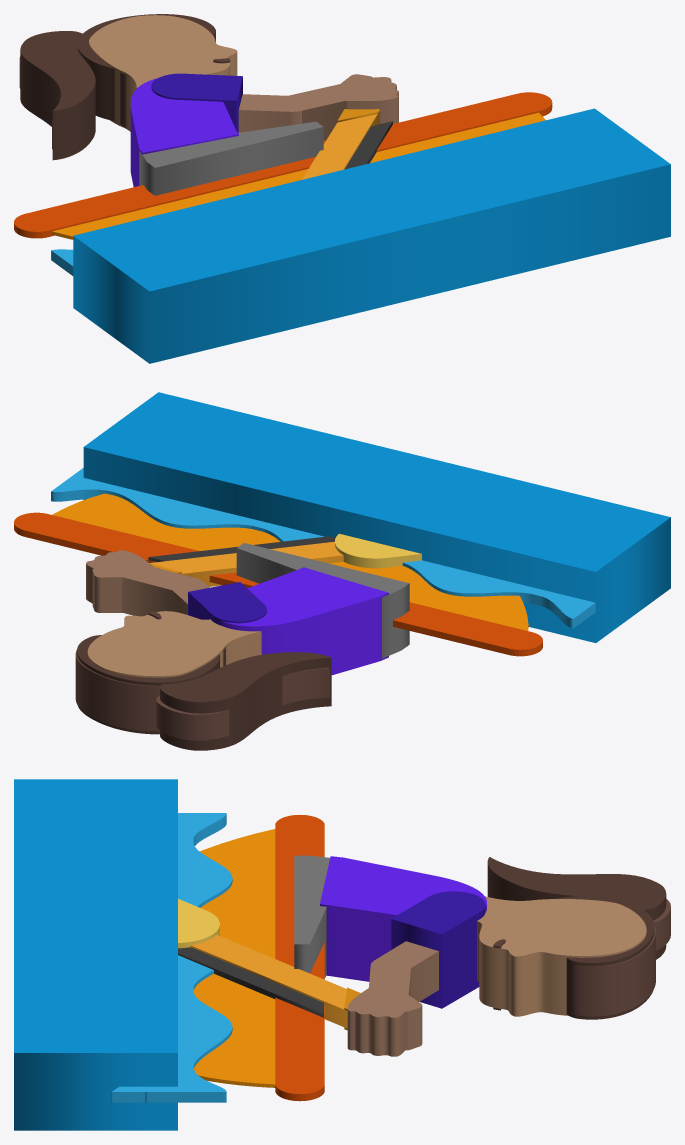
The model's file is emoji_u1f6a3_1f3fd_200d_2640.glb.
3 views of the same model, one above another, from view 1: azimuth 30°, elevation 25°; view 2: azimuth 150°, elevation 25°; view 3: azimuth 270°, elevation 25° (orthographic). The views are drawn at different scales.
Parts seen in each view (by area): view 1: emoji_u1f6a3_1f3fd_200d_2640; view 2: emoji_u1f6a3_1f3fd_200d_2640; view 3: emoji_u1f6a3_1f3fd_200d_2640.
Boxes of the visible parts, <box> form: emoji_u1f6a3_1f3fd_200d_2640: <box>14,14,670,363</box>; emoji_u1f6a3_1f3fd_200d_2640: <box>14,392,670,750</box>; emoji_u1f6a3_1f3fd_200d_2640: <box>14,779,670,1130</box>.
Bounding box in the file's own units: 0.0339 × 0.0044 × 0.0336.
